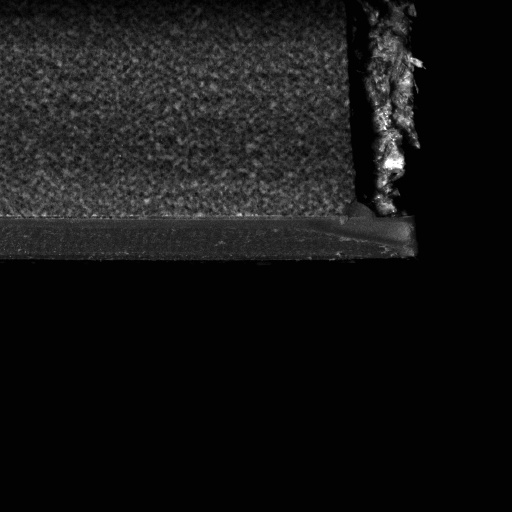bengque: (349, 6, 408, 213)
